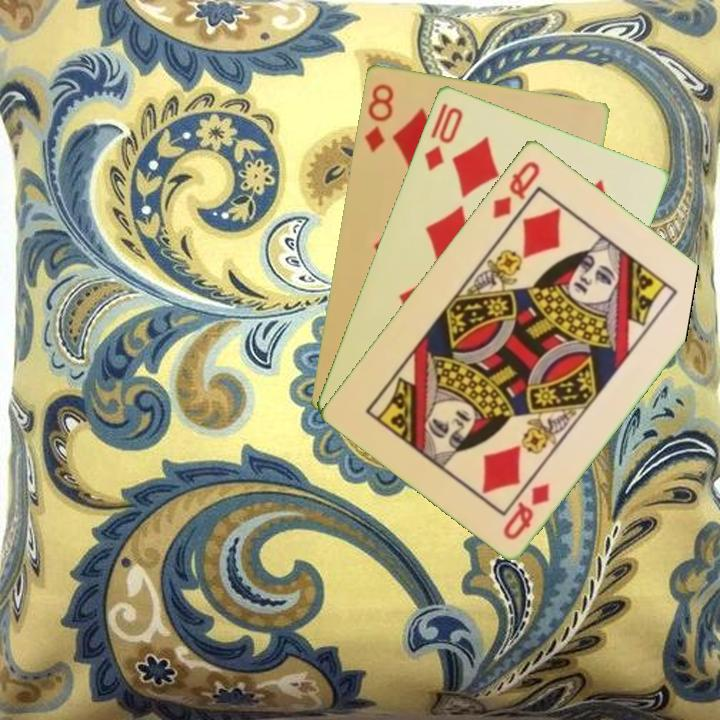10d: (420, 102, 466, 174)
8d: (360, 79, 397, 155)
Qd: (488, 156, 544, 222), (499, 478, 553, 543)
